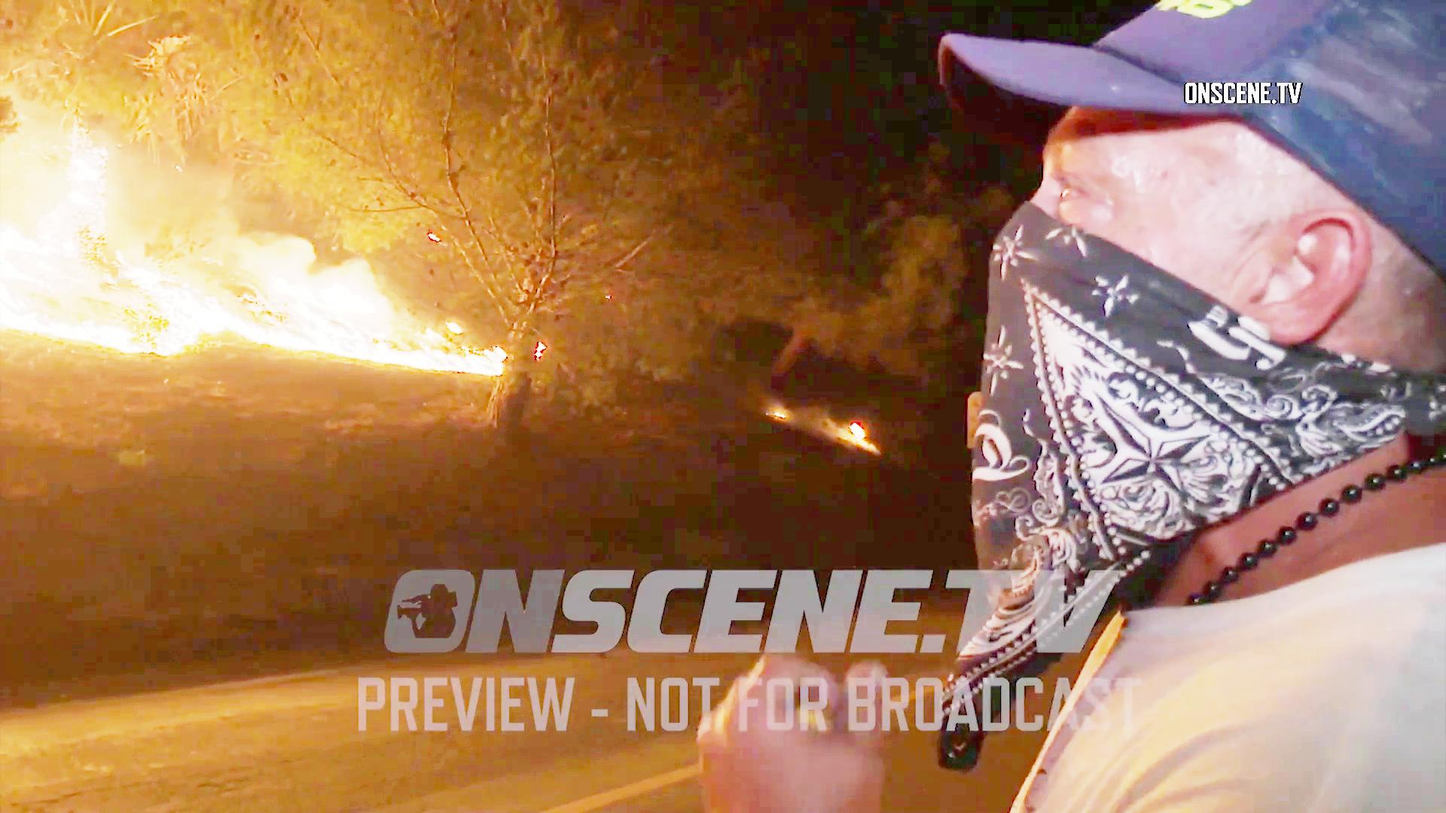fire: (5, 141, 167, 344), (185, 221, 400, 353)
